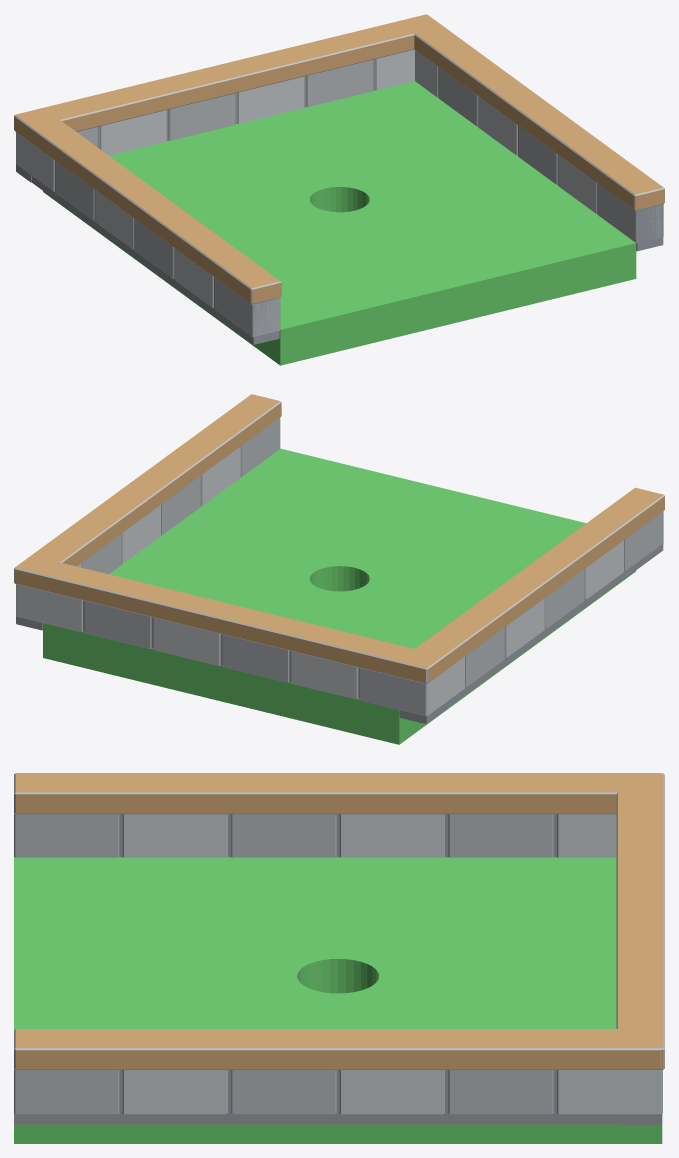
The model's file is carnival_green_cup_6x6.glb.
The picture shows the model from 3 angles, top to bottom: view 1: azimuth 30°, elevation 25°; view 2: azimuth 150°, elevation 25°; view 3: azimuth 270°, elevation 25°; orthographic projection. The views are drawn at different scales.
Parts seen in each view (by area): view 1: Mesh_Floor.006, Mesh_Wall_Back.001, Mesh_Wall_L.007, Mesh_Wall_R.007; view 2: Mesh_Floor.006, Mesh_Wall_Back.001, Mesh_Wall_L.007, Mesh_Wall_R.007; view 3: Mesh_Floor.006, Mesh_Wall_R.007, Mesh_Wall_L.007, Mesh_Wall_Back.001.
Part boxes in pixels (x1,y1,x2,y2): Mesh_Floor.006: (43,81,636,365); Mesh_Wall_Back.001: (14,14,442,182); Mesh_Wall_L.007: (14,108,281,344); Mesh_Wall_R.007: (400,15,664,251); Mesh_Floor.006: (43,448,636,744); Mesh_Wall_Back.001: (14,555,442,723); Mesh_Wall_L.007: (400,487,664,723); Mesh_Wall_R.007: (15,394,281,630); Mesh_Floor.006: (14,857,662,1143); Mesh_Wall_R.007: (14,1029,662,1124); Mesh_Wall_L.007: (14,773,660,857); Mesh_Wall_Back.001: (616,773,664,1124).
Size of what is drawn, in the model's own units: 6.05 by 1.17 by 6.03.
